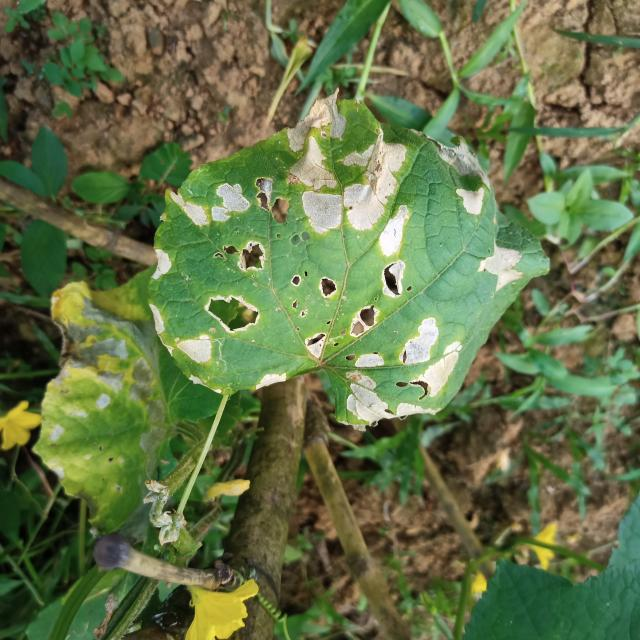disease_cucumber: (150, 92, 519, 428)
